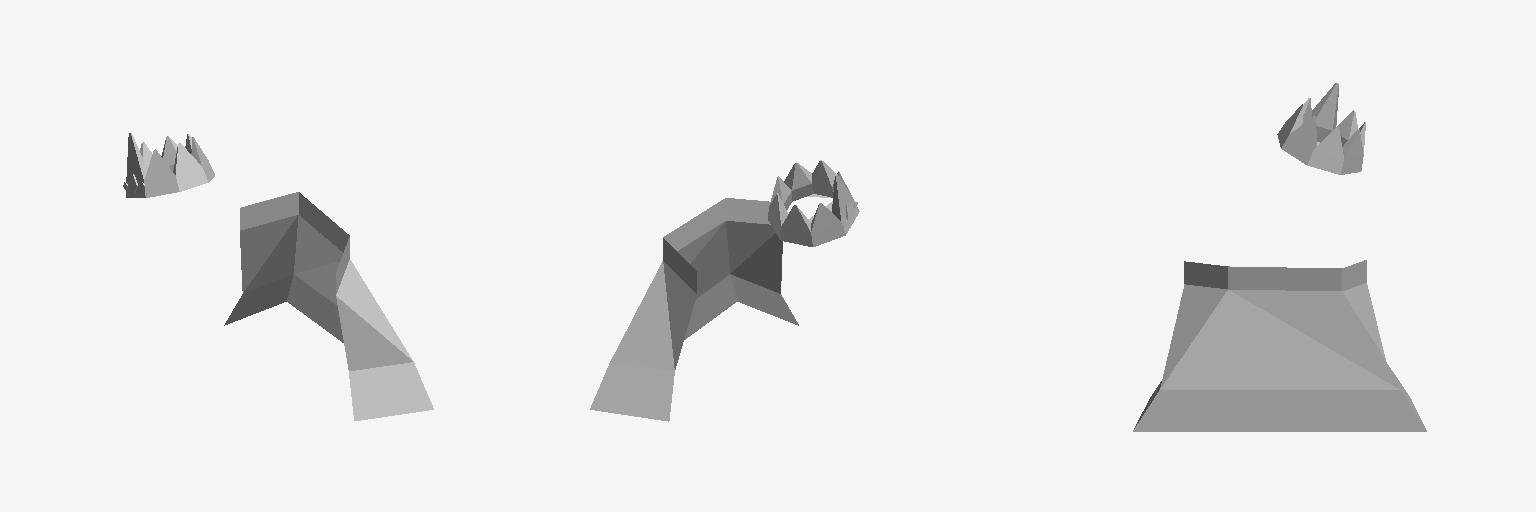
File: Hat_crown.obj
3 renders of one model, left to right at view 1: azimuth 30°, elevation 25°; view 2: azimuth 150°, elevation 25°; view 3: azimuth 270°, elevation 25°, orthographic.
Visible parts, largest first — view 1: Plane.001, Cylinder.002_Cylinder.007; view 2: Plane.001, Cylinder.002_Cylinder.007; view 3: Plane.001, Cylinder.002_Cylinder.007.
Part boxes in pixels (x1,y1,x2,y2): Plane.001: (224,192,433,420); Cylinder.002_Cylinder.007: (123,133,214,197); Plane.001: (590,198,798,421); Cylinder.002_Cylinder.007: (768,160,859,246); Plane.001: (1133,260,1426,431); Cylinder.002_Cylinder.007: (1277,83,1365,174).
Bounding box in the file's own units: 2.13 × 2.45 × 2.6.